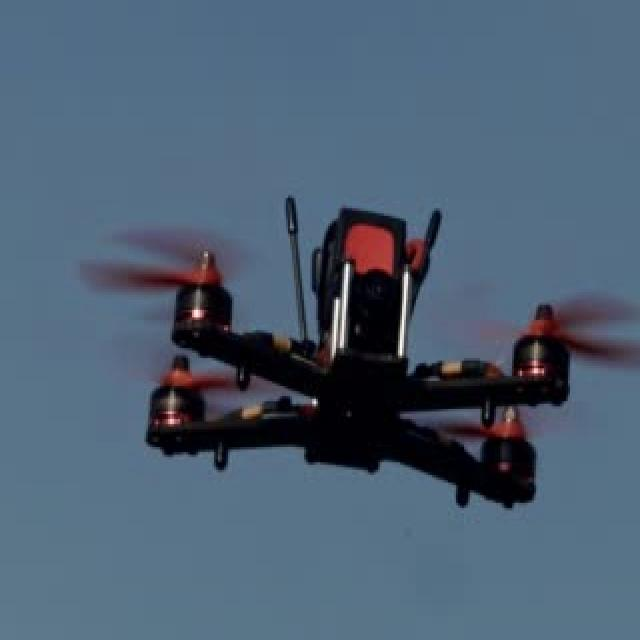drone: (68, 165, 640, 546)
